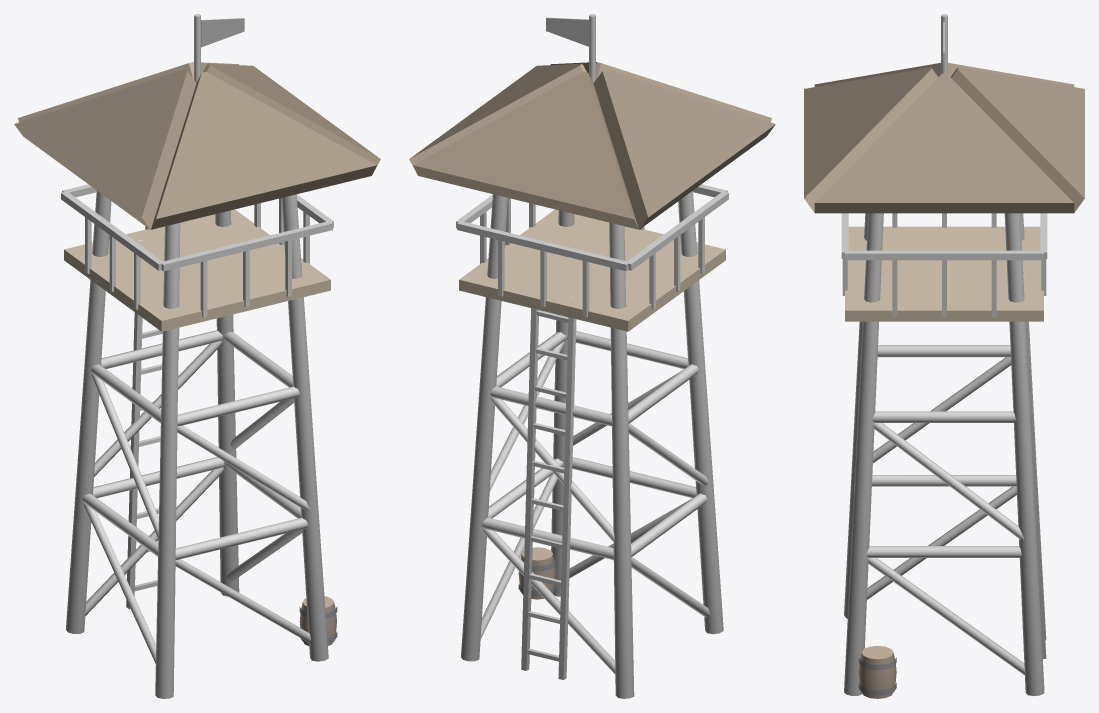
File: hw_lookout_tower.glb
3 views of the same model, side by side, from view 1: azimuth 30°, elevation 25°; view 2: azimuth 150°, elevation 25°; view 3: azimuth 270°, elevation 25° (orthographic).
Parts seen in each view (by area): view 1: Building; view 2: Building; view 3: Building.
Part boxes in pixels (x1=…): Building: x1=14, y1=14, x2=380, y2=698; Building: x1=409, y1=14, x2=775, y2=698; Building: x1=804, y1=14, x2=1084, y2=698.
Size of the model in its own units: 2.31 by 5.8 by 2.31.
